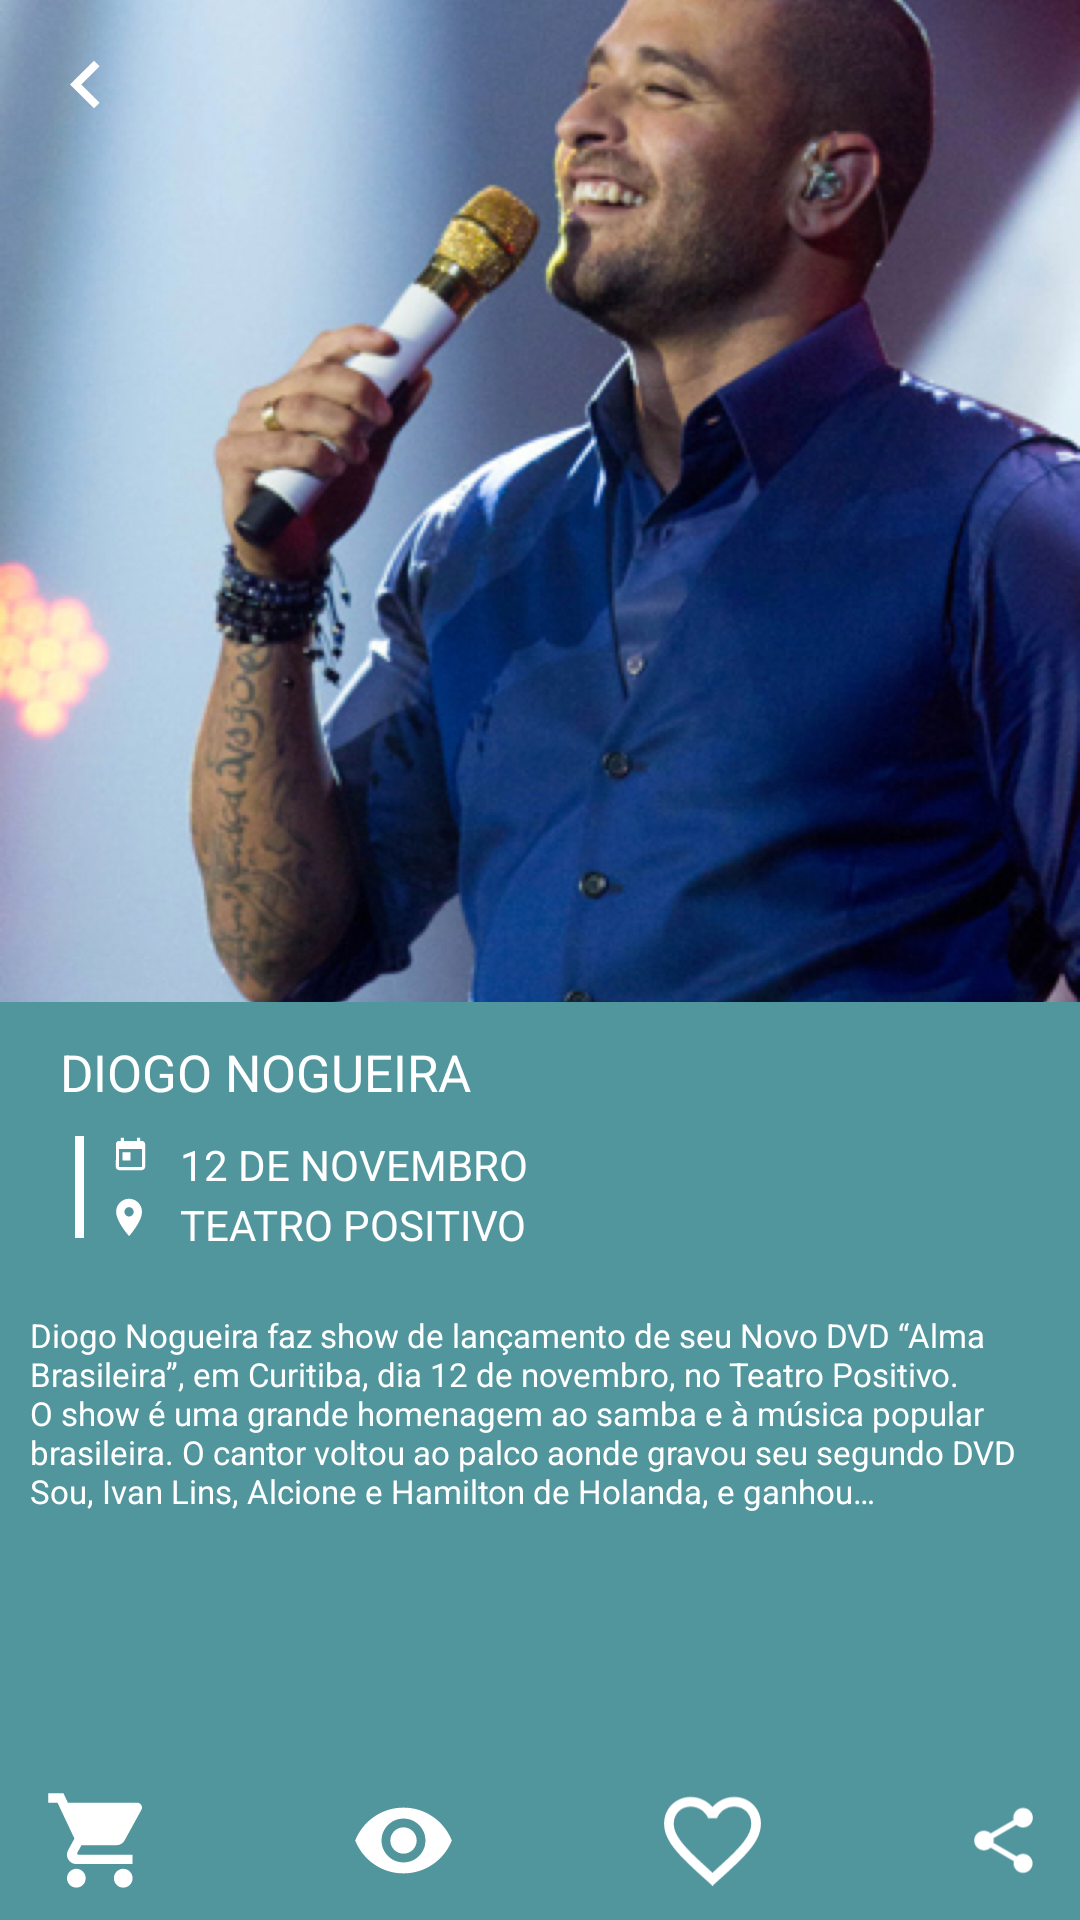

Where icons sit on this 1080 x 1920 app screen, as box=[x1, y1, x2, y2]:
calendar mini: box=[115, 1137, 146, 1171]
cart: box=[48, 1793, 142, 1888]
pin: box=[116, 1198, 142, 1236]
share: box=[974, 1807, 1033, 1873]
view: box=[355, 1807, 452, 1874]
